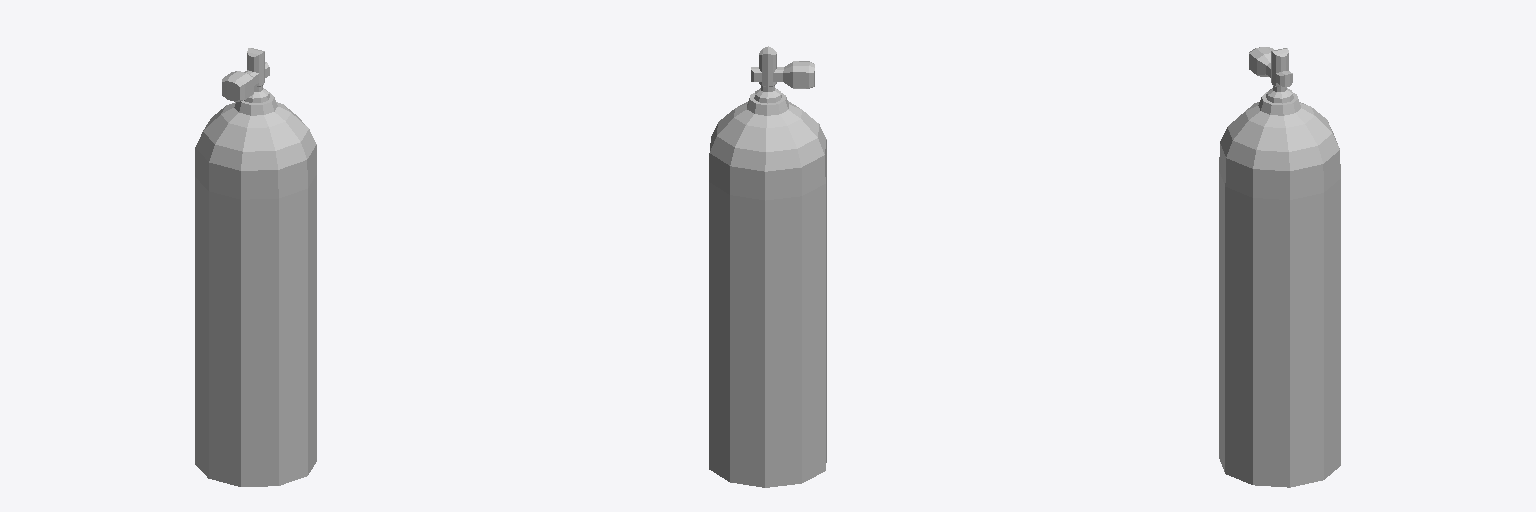
Rendered from Tank4.obj.
3 views of the same model, side by side, from view 1: azimuth 30°, elevation 25°; view 2: azimuth 150°, elevation 25°; view 3: azimuth 270°, elevation 25° (orthographic).
Visible parts, largest first — view 1: Tank4; view 2: Tank4; view 3: Tank4.
Boxes of the visible parts, x1=… form: Tank4: x1=195, y1=48, x2=316, y2=486; Tank4: x1=709, y1=46, x2=826, y2=487; Tank4: x1=1219, y1=47, x2=1340, y2=487.
Size of the model in its own units: 40.99 by 153 by 41.11.